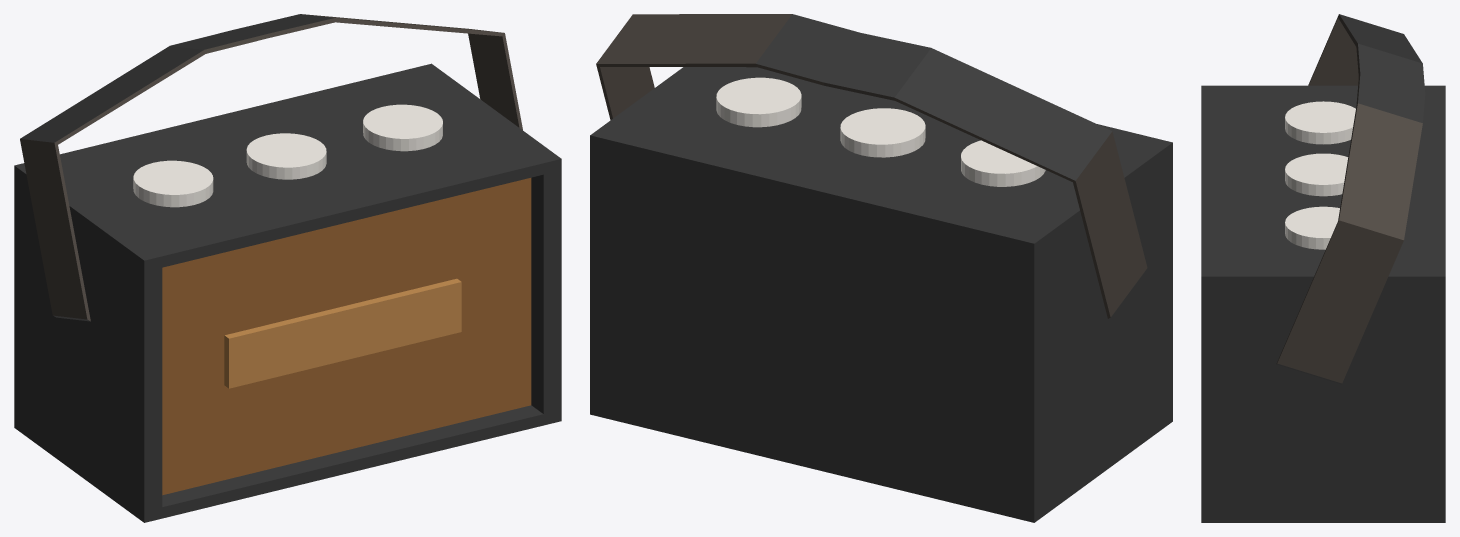
The model's file is speaker.fbx.
3 renders of one model, left to right at view 1: azimuth 30°, elevation 25°; view 2: azimuth 150°, elevation 25°; view 3: azimuth 270°, elevation 25°, orthographic. The views are drawn at different scales.
Parts seen in each view (by area): view 1: speaker; view 2: speaker; view 3: speaker.
Boxes of the visible parts, <box> form: speaker: <box>14,14,561,522</box>; speaker: <box>590,14,1172,522</box>; speaker: <box>1201,14,1445,522</box>.
Bounding box in the file's own units: 0.5 × 0.4 × 0.25.
